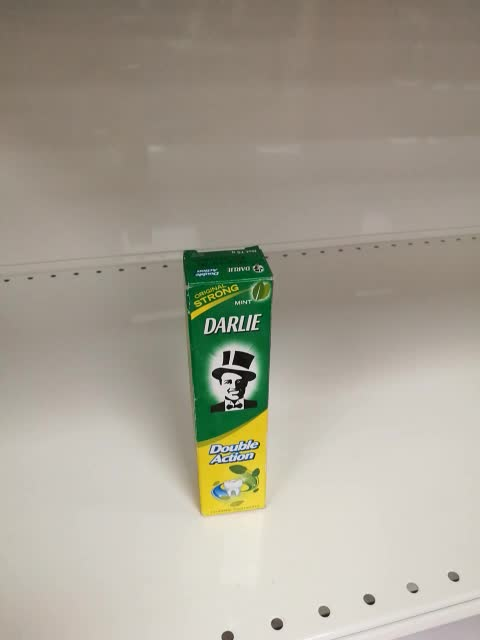toothpaste: (181, 244, 273, 517)
